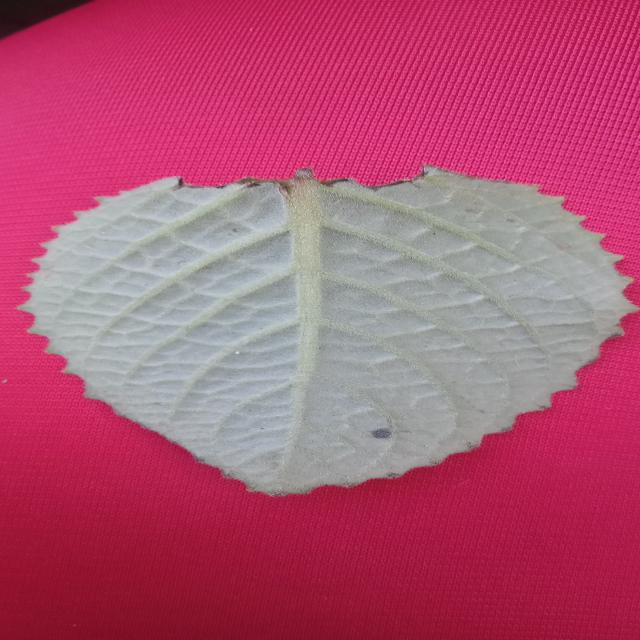Oregano: (11, 165, 640, 506)
